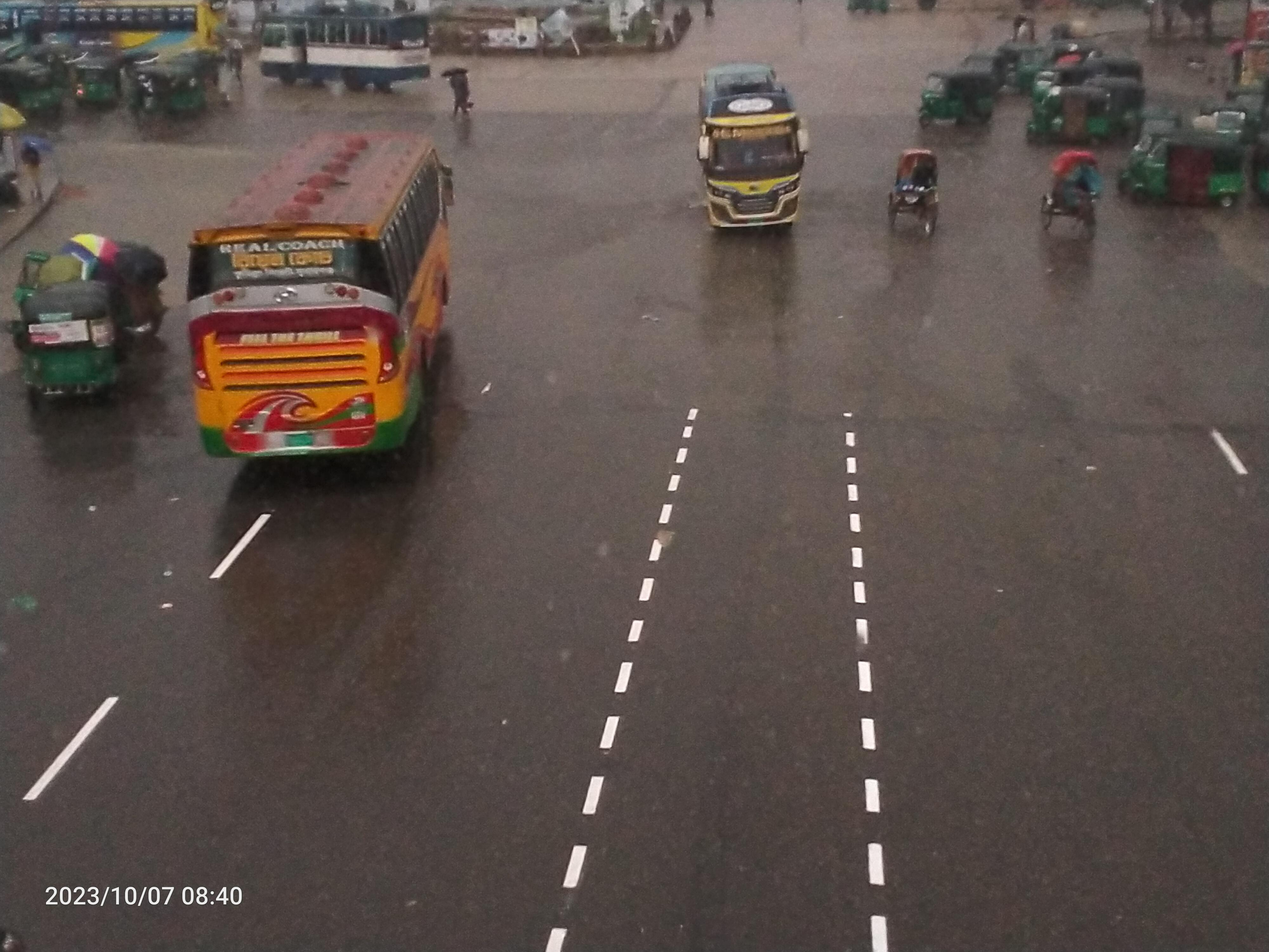Bus: (154, 94, 520, 520), (662, 45, 831, 269), (245, 0, 449, 104), (3, 0, 243, 66)
Car: (864, 131, 973, 254), (1026, 136, 1110, 256)
